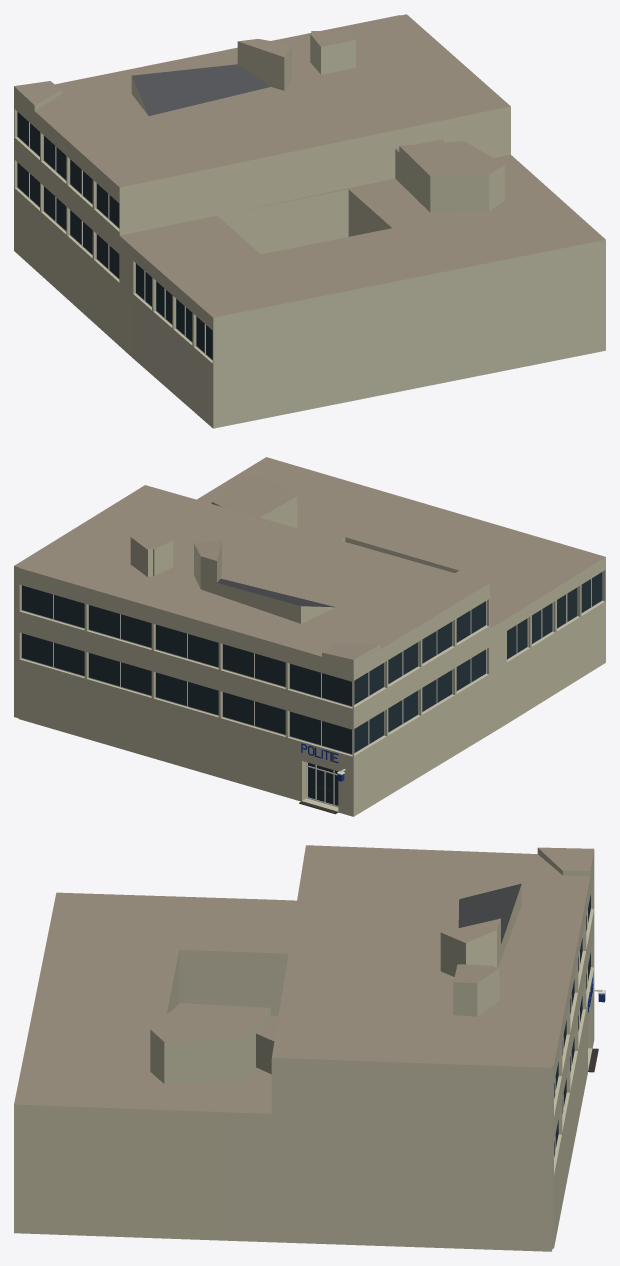
The model's file is recipe-large-politie-zuid-de-pijp.glb.
3 views of the same model, one above another, from view 1: azimuth 30°, elevation 25°; view 2: azimuth 150°, elevation 25°; view 3: azimuth 270°, elevation 25° (orthographic). The views are drawn at different scales.
Parts seen in each view (by area): view 1: politie-zuid-de-pijp; view 2: politie-zuid-de-pijp; view 3: politie-zuid-de-pijp.
Part boxes in pixels (x1,y1,x2,y2): politie-zuid-de-pijp: (14, 14, 605, 428); politie-zuid-de-pijp: (14, 457, 605, 816); politie-zuid-de-pijp: (14, 845, 605, 1251).
Bounding box in the file's own units: 30.26 × 13.79 × 32.84.
